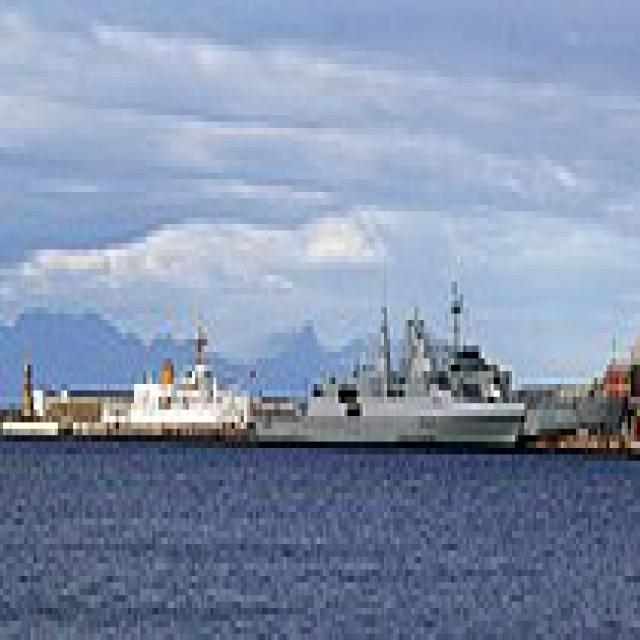Warship: (253, 275, 524, 448)
